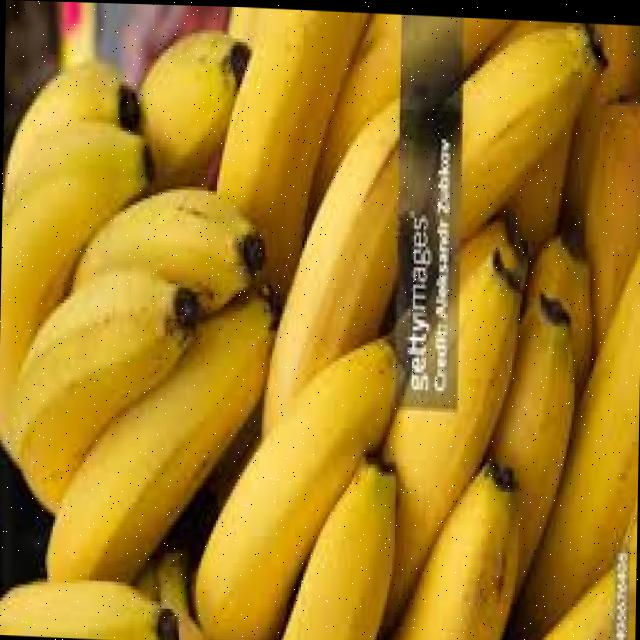Banana: (48, 292, 272, 580), (194, 336, 396, 640), (383, 217, 523, 624), (507, 250, 640, 640), (0, 268, 200, 509), (0, 120, 148, 420), (265, 98, 398, 431), (217, 11, 366, 293), (489, 233, 591, 582), (461, 23, 597, 230), (73, 187, 262, 310), (391, 463, 517, 640), (283, 460, 395, 640), (138, 29, 248, 186), (0, 580, 178, 640)
